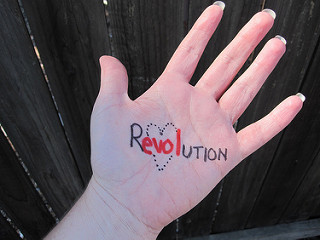palm: (106, 99, 229, 209)
